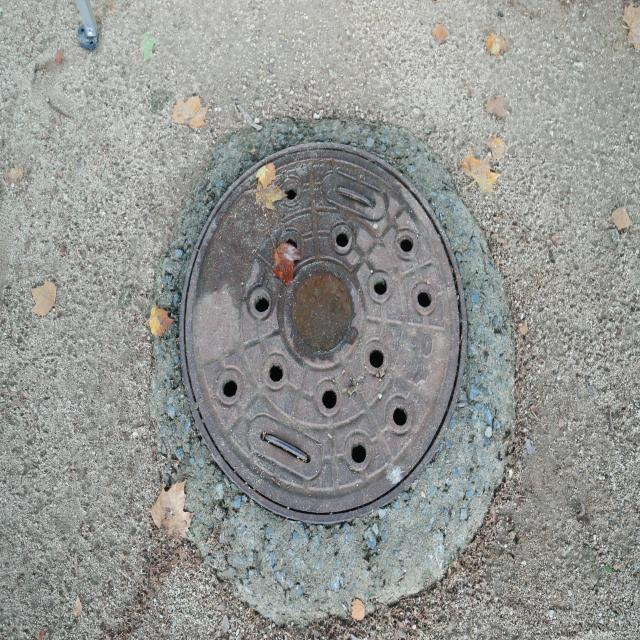manhole: (180, 144, 474, 524)
